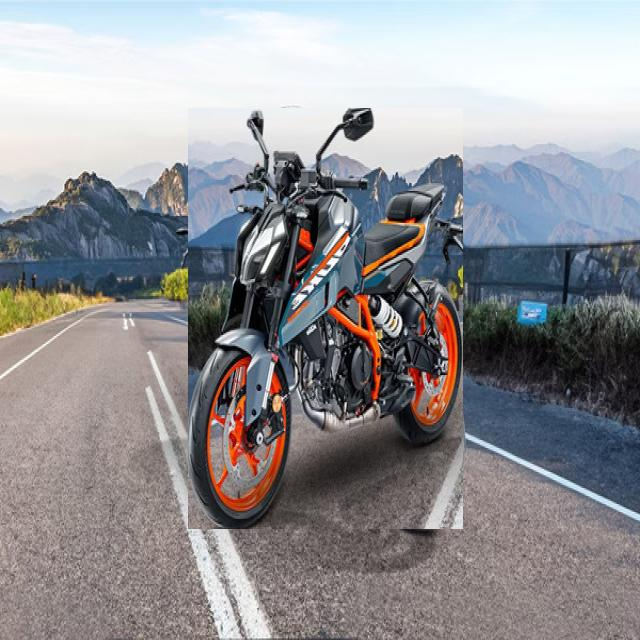motorcycle: (189, 108, 463, 529)
